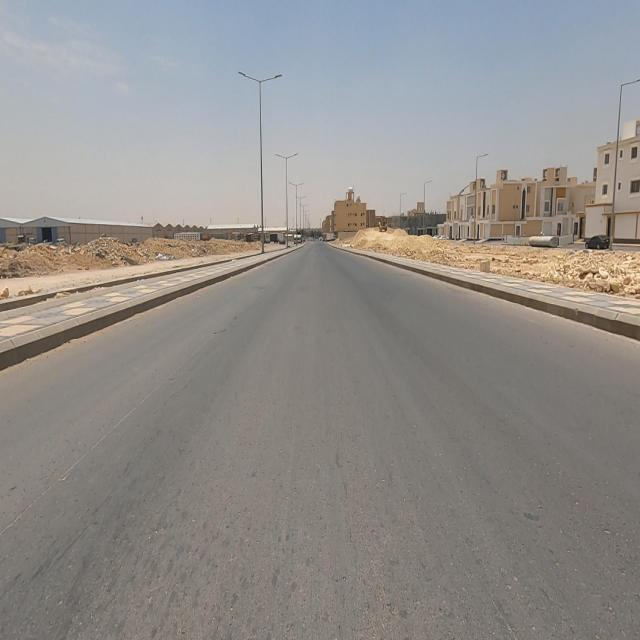debris: (48, 228, 101, 278), (140, 235, 186, 282), (115, 216, 148, 276), (171, 233, 220, 270)
